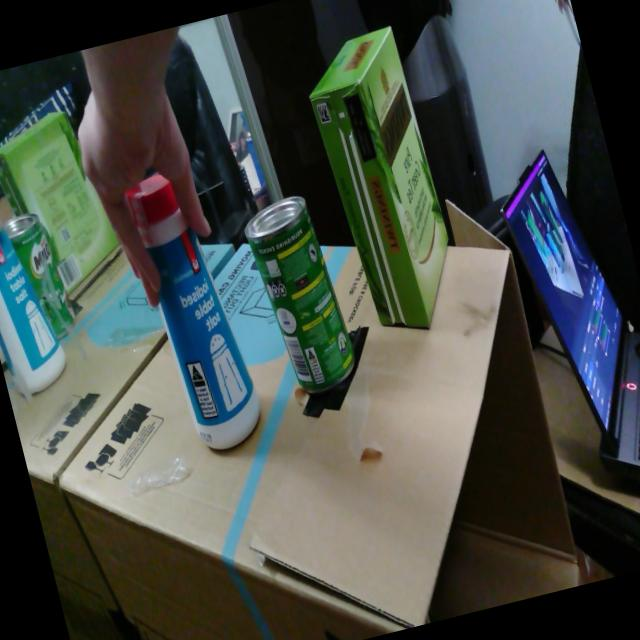nestle_milo_tin: (245, 196, 354, 392)
twinings_greentea_box: (310, 26, 448, 327)
woolworths_salt_bottle: (127, 174, 259, 449)
